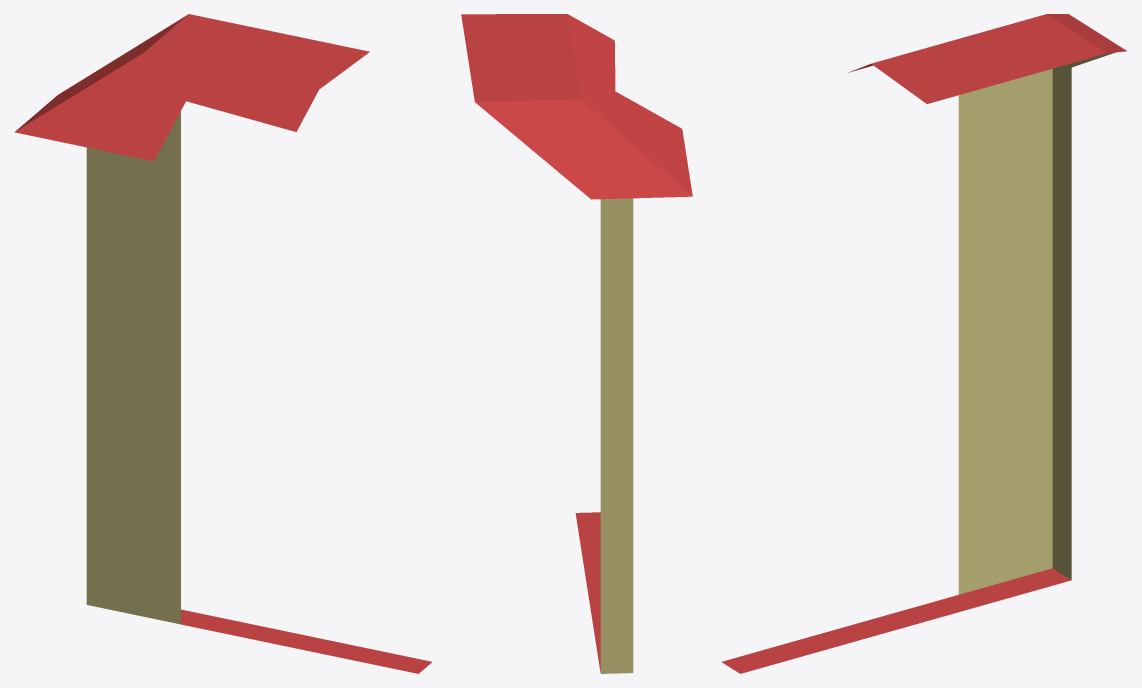
3 renders of one model, left to right at view 1: azimuth 30°, elevation 25°; view 2: azimuth 150°, elevation 25°; view 3: azimuth 270°, elevation 25°, orthographic. The views are drawn at different scales.
Bounding box in the file's own units: 4.64 × 5.23 × 8.27.
